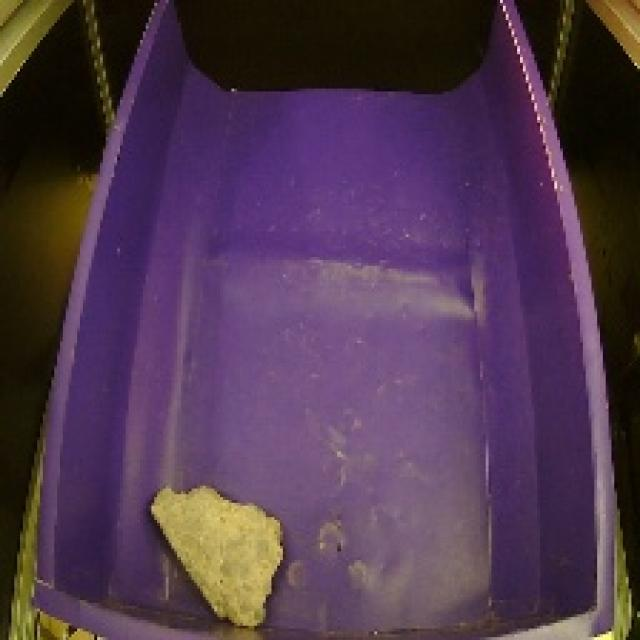china: (135, 465, 293, 636)
